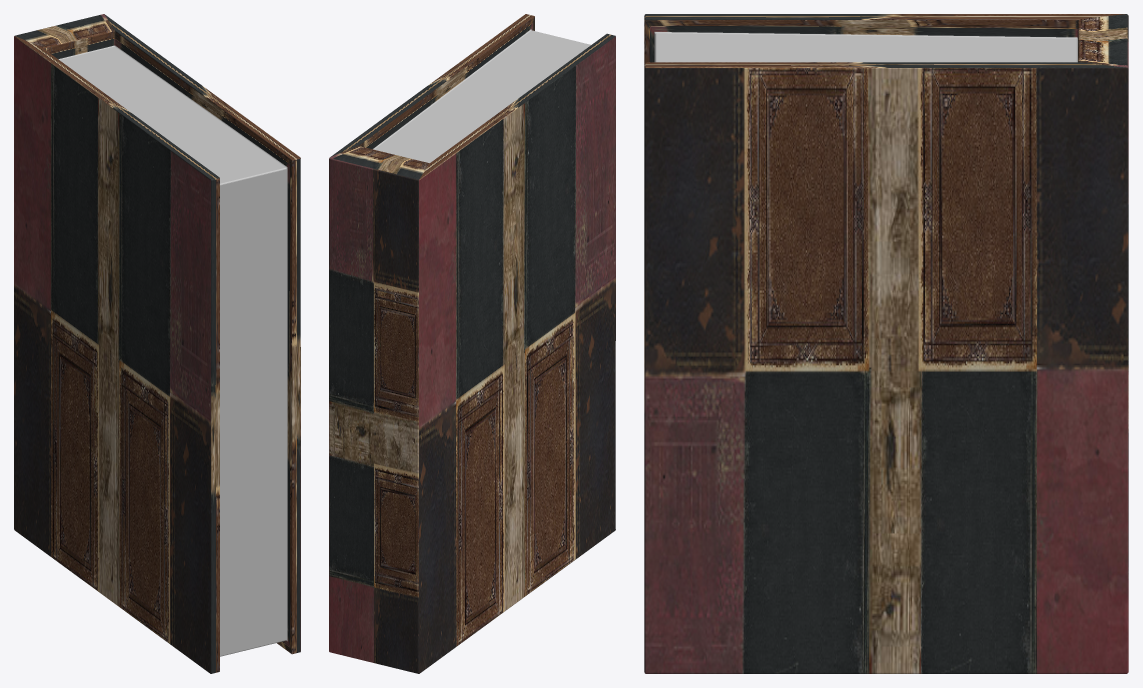
The model's file is book.fbx.
3 renders of one model, left to right at view 1: azimuth 30°, elevation 25°; view 2: azimuth 150°, elevation 25°; view 3: azimuth 270°, elevation 25°, orthographic. The views are drawn at different scales.
Parts seen in each view (by area): view 1: Cube.036; view 2: Cube.036; view 3: Cube.036.
Boxes of the visible parts, x1,y1,x2,y2 form: Cube.036: (14,14,300,673); Cube.036: (329,14,615,673); Cube.036: (644,14,1128,673).
Bounding box in the file's own units: 24.05 × 126 × 90.93.
